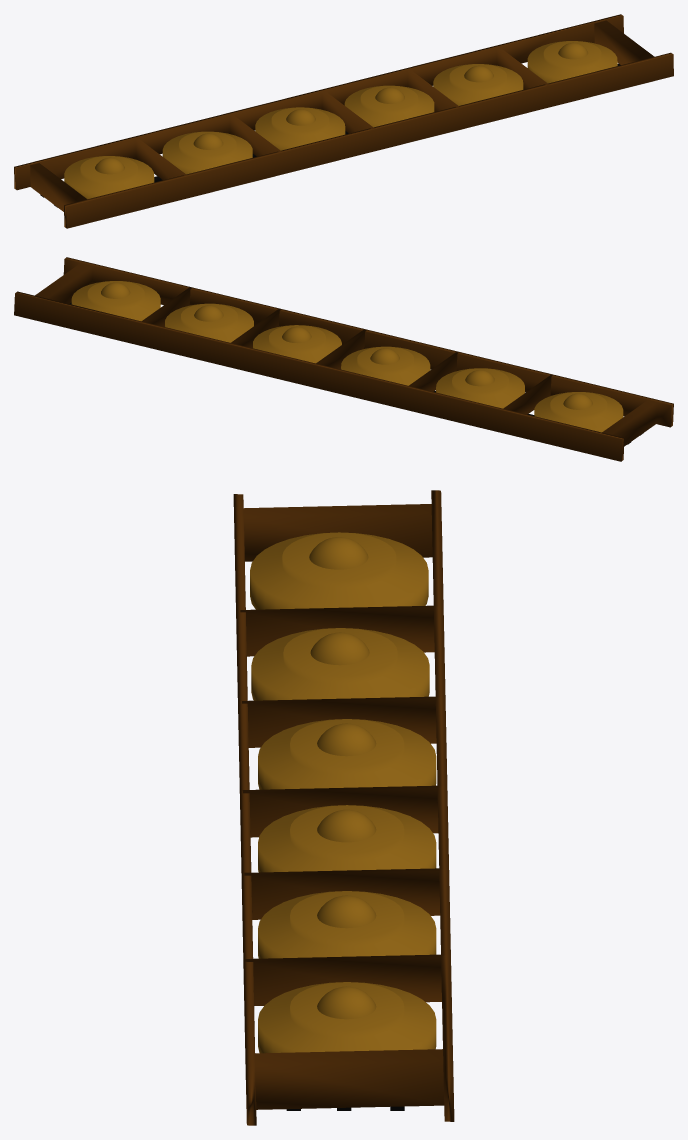
The model's file is kulintangan.glb.
The picture shows the model from 3 angles, top to bottom: view 1: azimuth 30°, elevation 25°; view 2: azimuth 150°, elevation 25°; view 3: azimuth 270°, elevation 25°; orthographic projection. The views are drawn at different scales.
Visible parts, largest first — view 1: Cube.001, Cube, Cylinder.004, Cylinder.002, Cylinder.003, Cylinder.005, Cylinder, Cylinder.001; view 2: Cube, Cube.001, Cylinder.004, Cylinder.003, Cylinder.005, Cylinder, Cylinder.002, Cylinder.001; view 3: Cube, Cube.001, Cylinder.004, Cylinder.003, Cylinder.005, Cylinder.002, Cylinder, Cylinder.001.
Part boxes in pixels (x1,y1,x2,y2): Cube.001: (30,20,673,228); Cube: (14,14,623,190); Cylinder.004: (64,156,154,199); Cylinder.002: (255,107,345,150); Cylinder.003: (162,131,252,174); Cylinder.005: (527,41,617,83); Cylinder: (433,64,523,105); Cylinder.001: (344,85,434,127); Cube: (14,287,624,461); Cube.001: (35,257,673,446); Cylinder.004: (534,392,623,432); Cylinder.003: (436,368,524,408); Cylinder.005: (71,281,160,321); Cylinder: (165,303,253,342); Cylinder.002: (341,346,430,385); Cylinder.001: (253,325,341,363); Cube: (240,490,454,1121); Cube.001: (233,494,444,1125); Cylinder.004: (250,532,428,609); Cylinder.003: (251,628,429,700); Cylinder.005: (258,982,436,1053); Cylinder.002: (258,719,436,789); Cylinder: (258,891,436,958); Cylinder.001: (258,805,436,872).
Bounding box in the file's own units: 2.07 × 0.1132 × 0.327.
